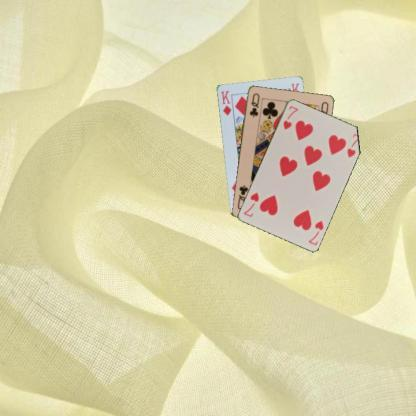7h: (280, 102, 300, 130), (306, 217, 324, 246)
Kd: (218, 88, 232, 117)
Qc: (246, 90, 260, 118)
